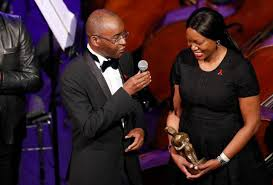black_male: (83, 19, 134, 60)
